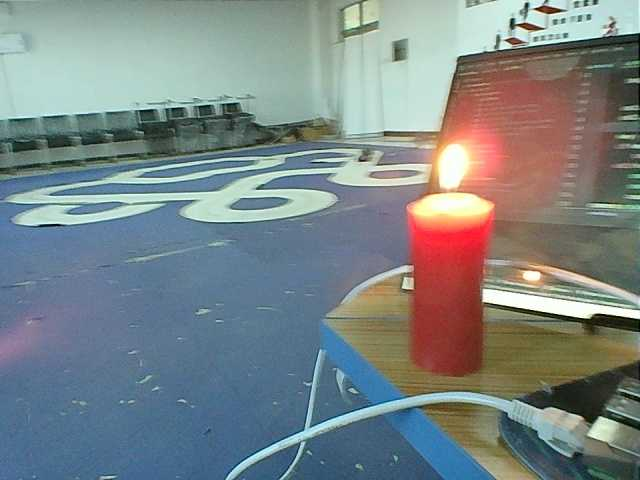candle: (404, 197, 492, 380)
fire: (429, 141, 479, 197)
